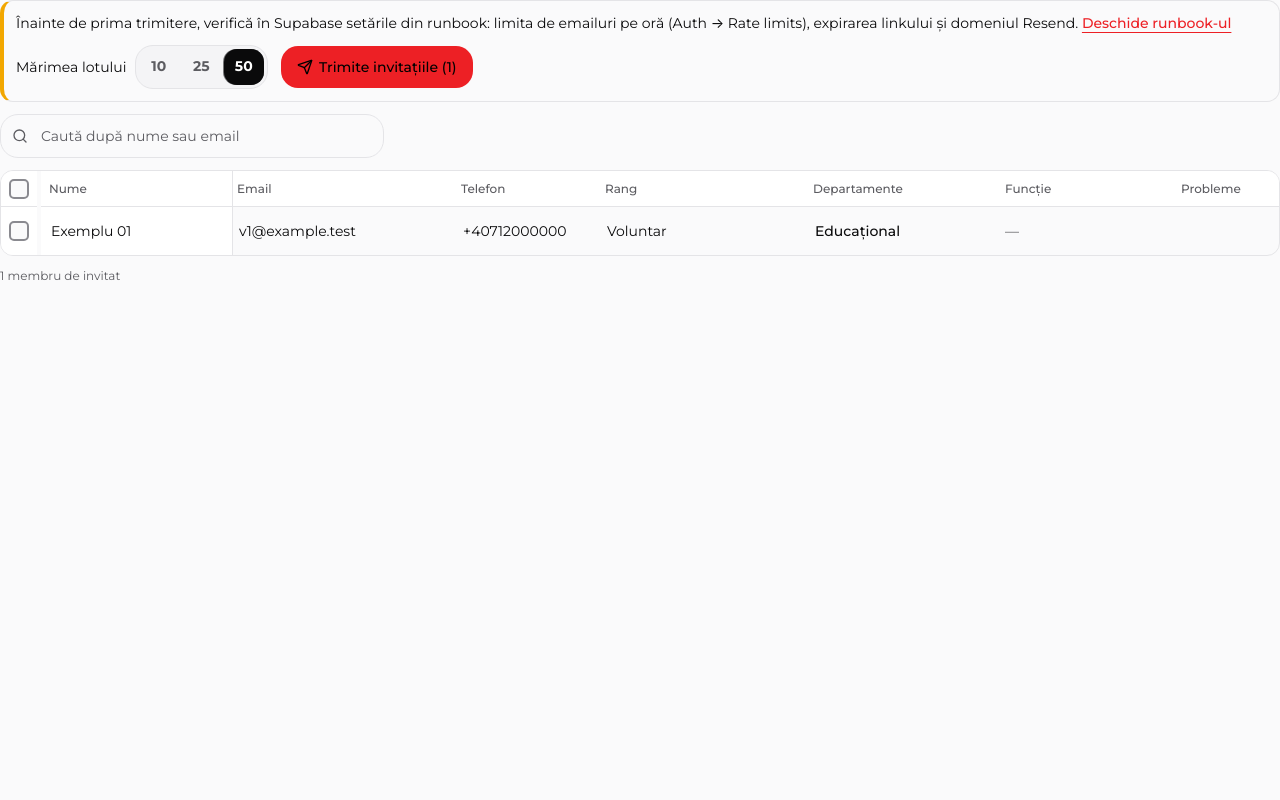
Test: inline edits › refuses an invalid address in place and saves nothing
Click the button with aria-label "Editează emailul pentru Exemplu 01" at (341, 231), box [233,211,449,251]
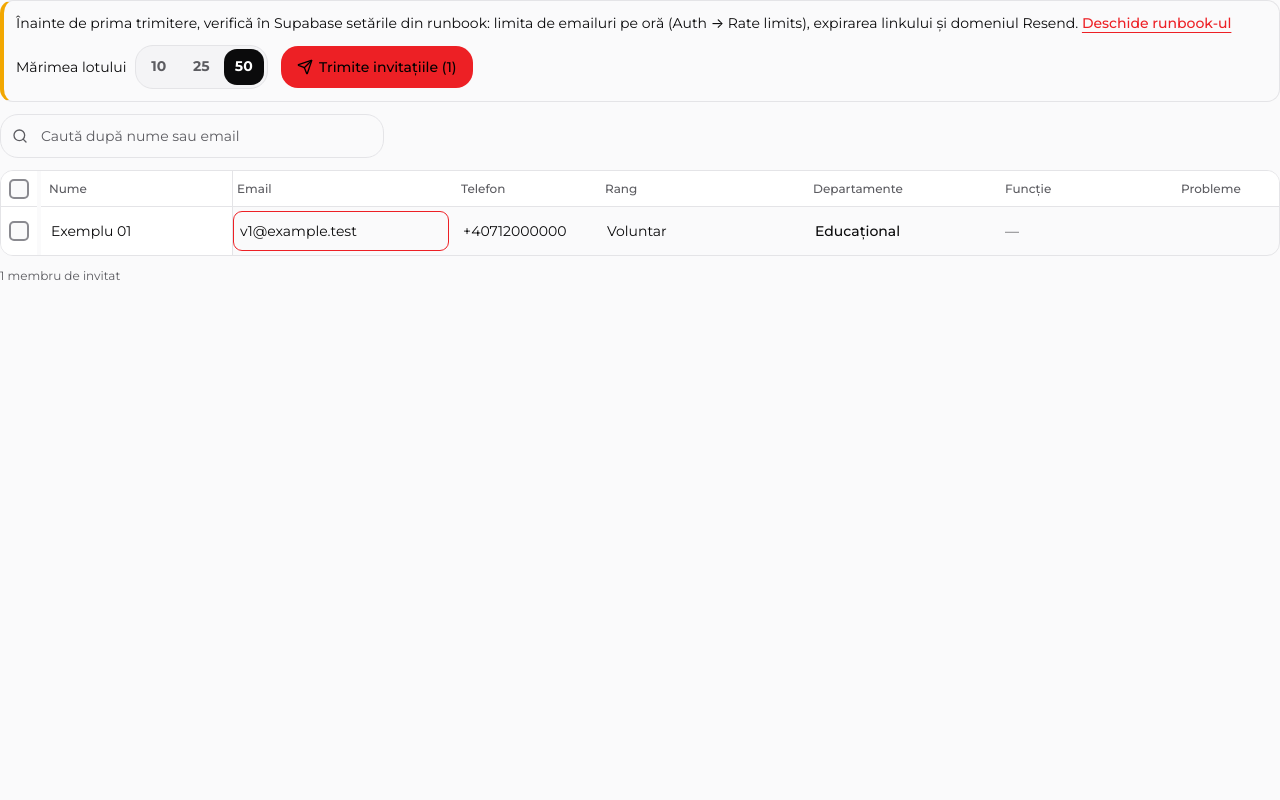
Replace the text in the field named "Emailul pentru Exemplu 01" with "ana.example.test" at (341, 231), box [233,211,449,251]
Then press Enter
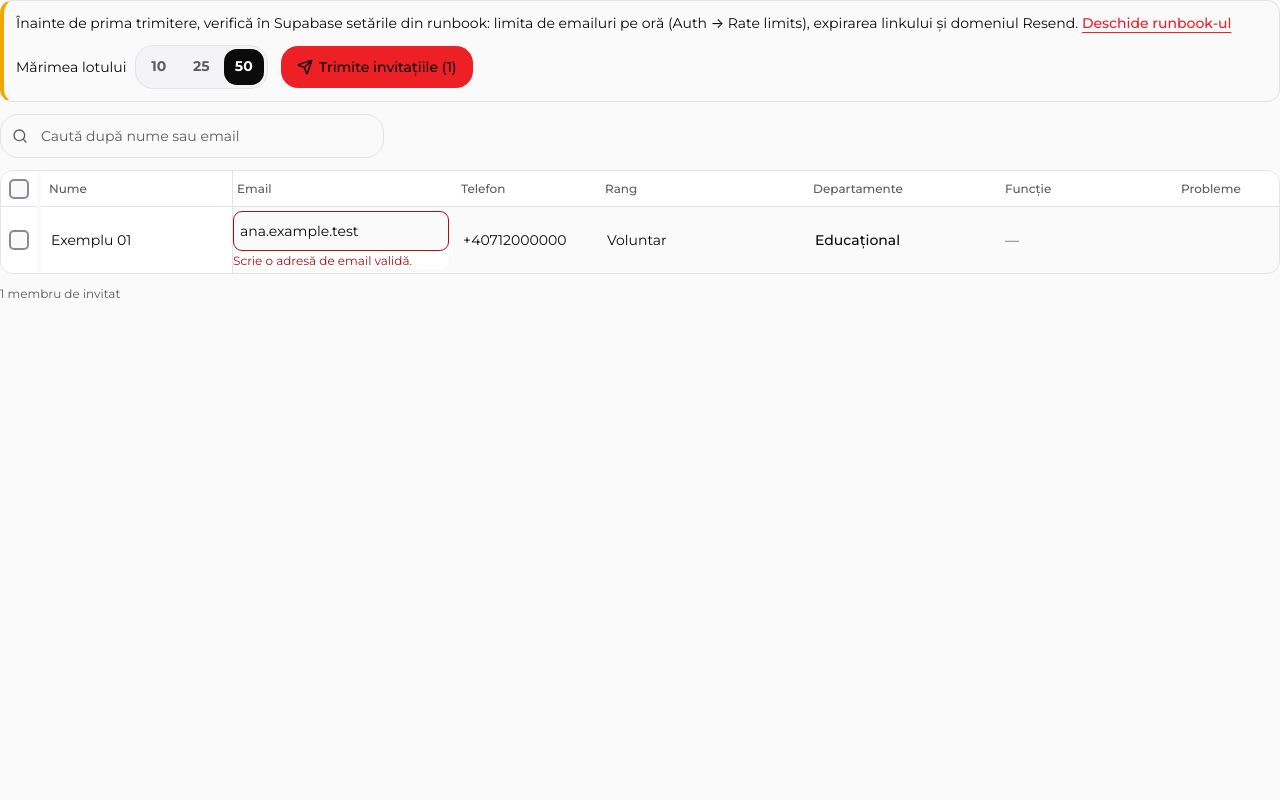
expect the message reads "Scrie o adresă de email validă.": met, box [233,253,412,268]
